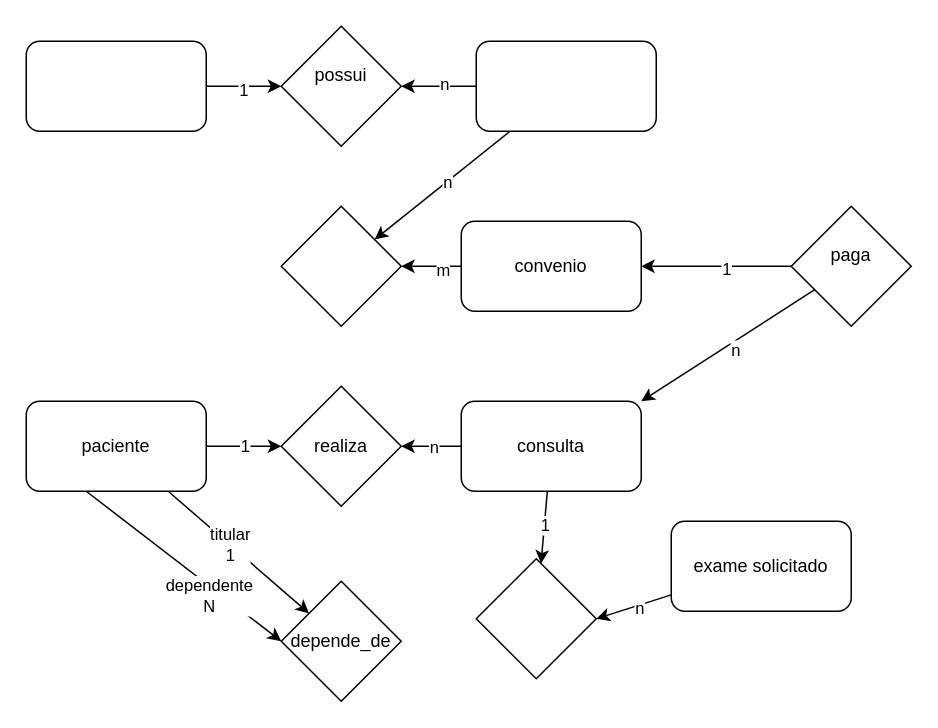
Some shapes in this 938 by 728 pixel diagram are drawn without their labels. Each missing label, with the centre of its shape:
credenciado: the point at 340,265
especialidade: the point at 115,85
medico: the point at 565,85
solicita: the point at 535,618
